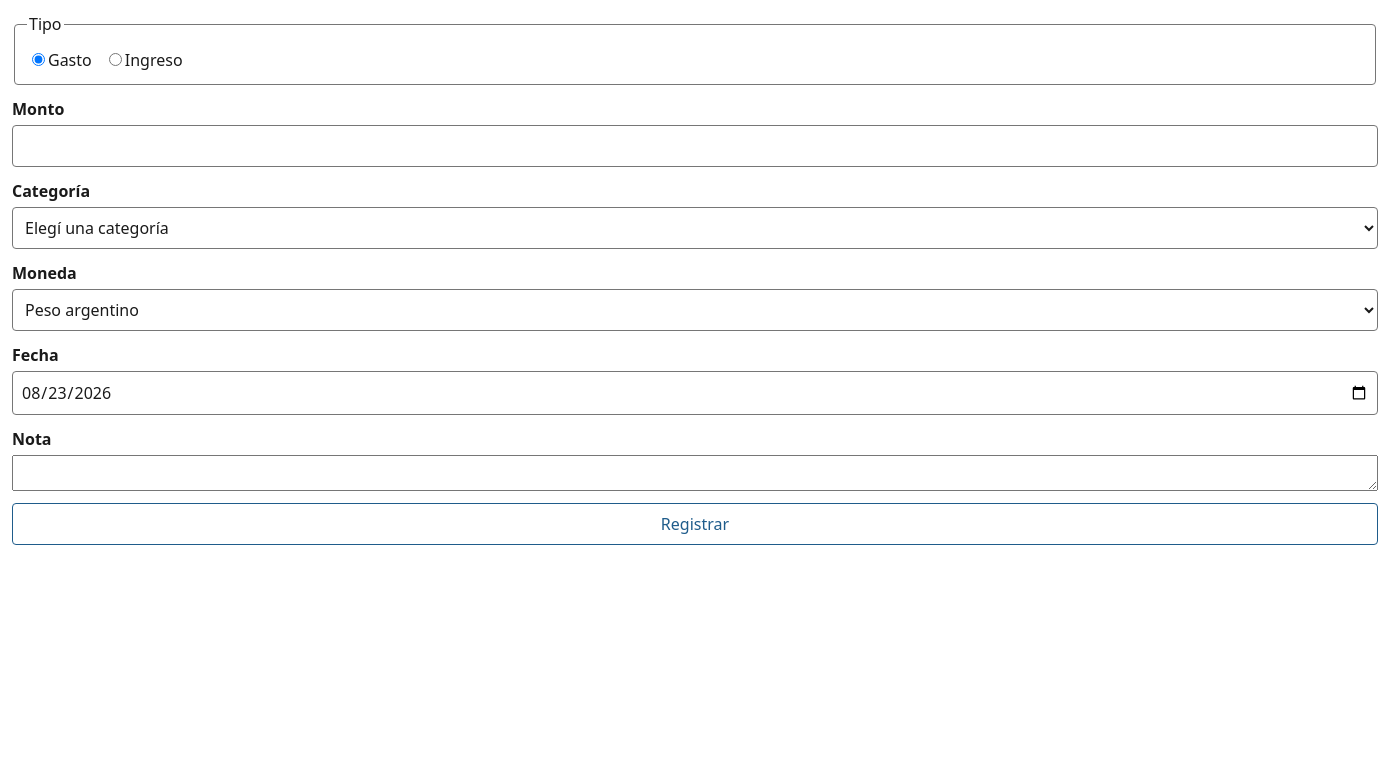
Scenario: validación en el formulario › muestra el error de monto junto al campo, con aria-invalid y aria-describedby AC-18
Step 1. Type "0" into the number field labelled "Monto" → (695, 146), box [12,125,1378,167]
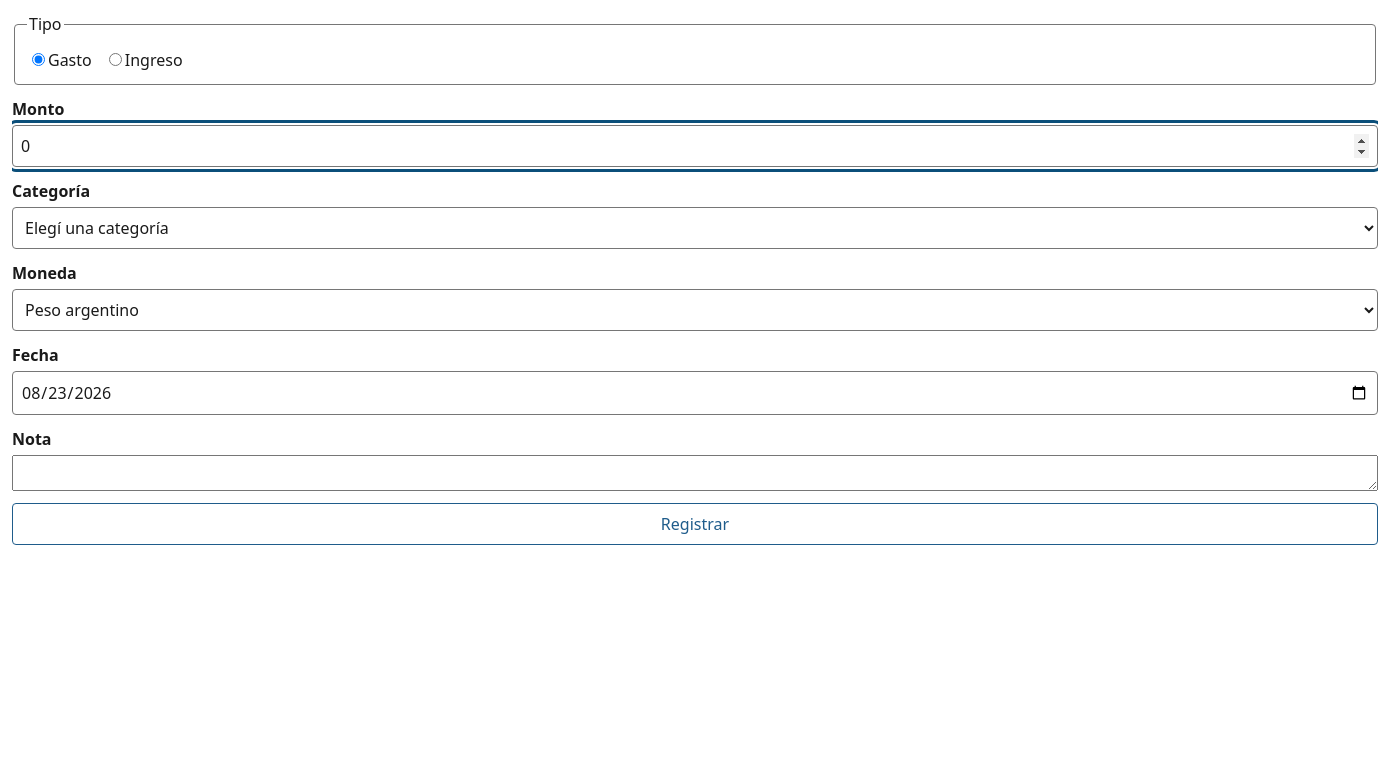
Step 2. Select "Comida" in the dropdown labelled "Categoría" → (695, 228), box [12,207,1378,249]
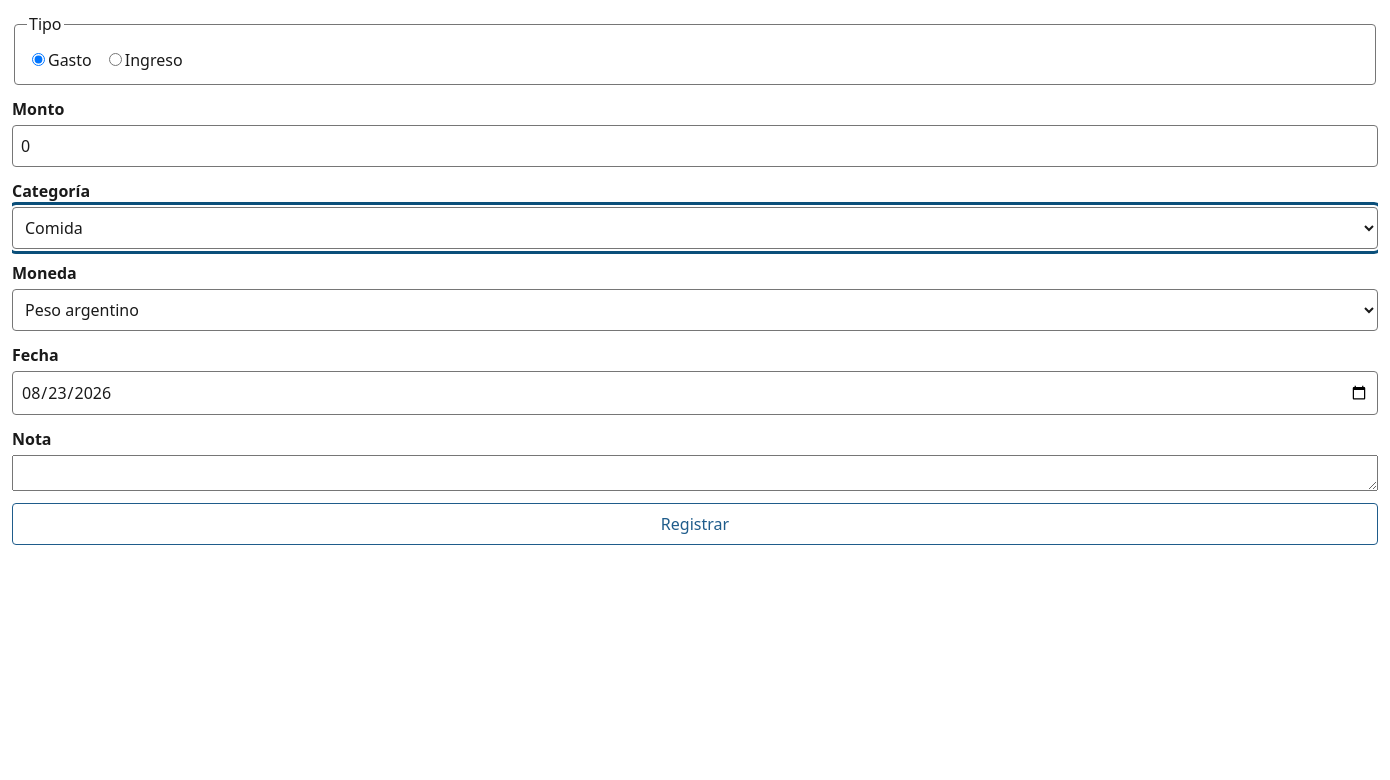
Step 3. Click the button "Registrar" → (695, 524), box [12,503,1378,545]
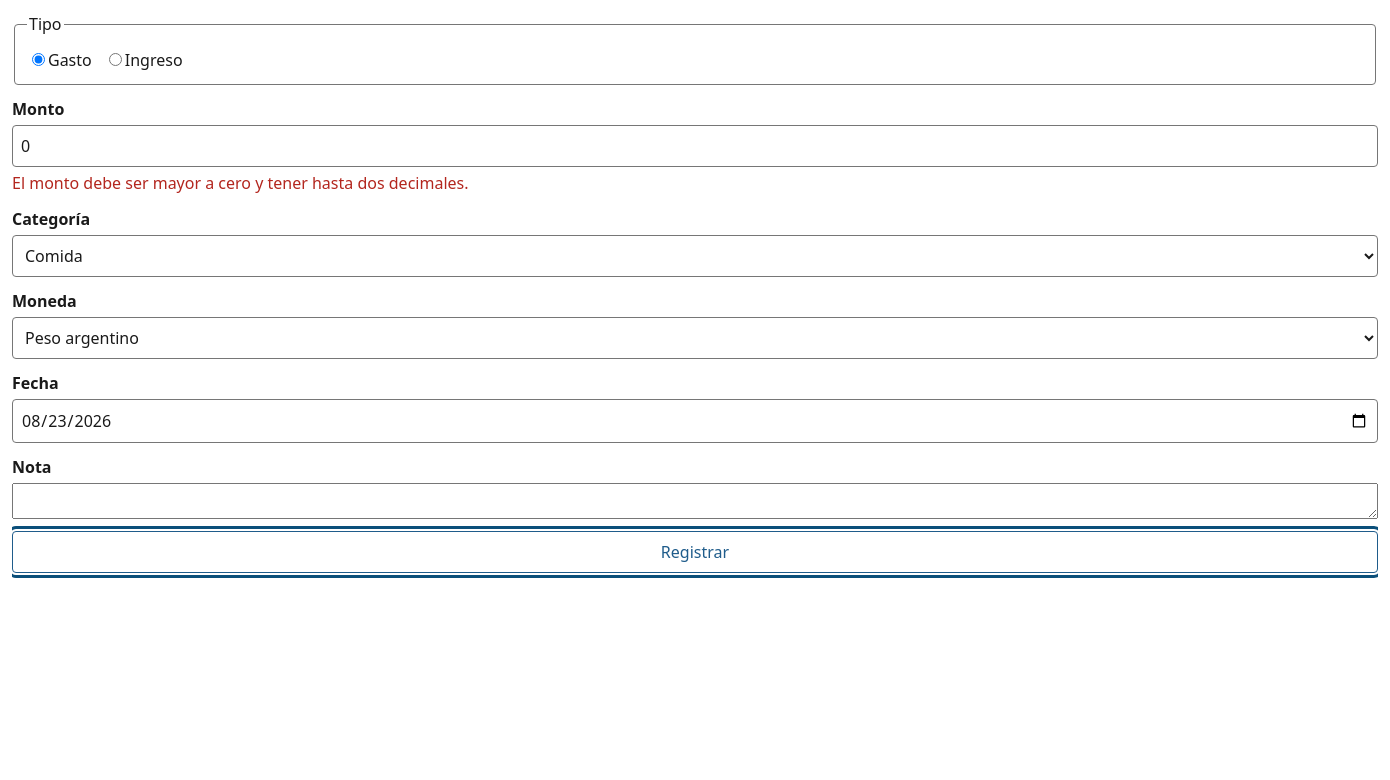
Check: the message with id "monto-error" shows "mayor a cero", box [12,172,468,194]
